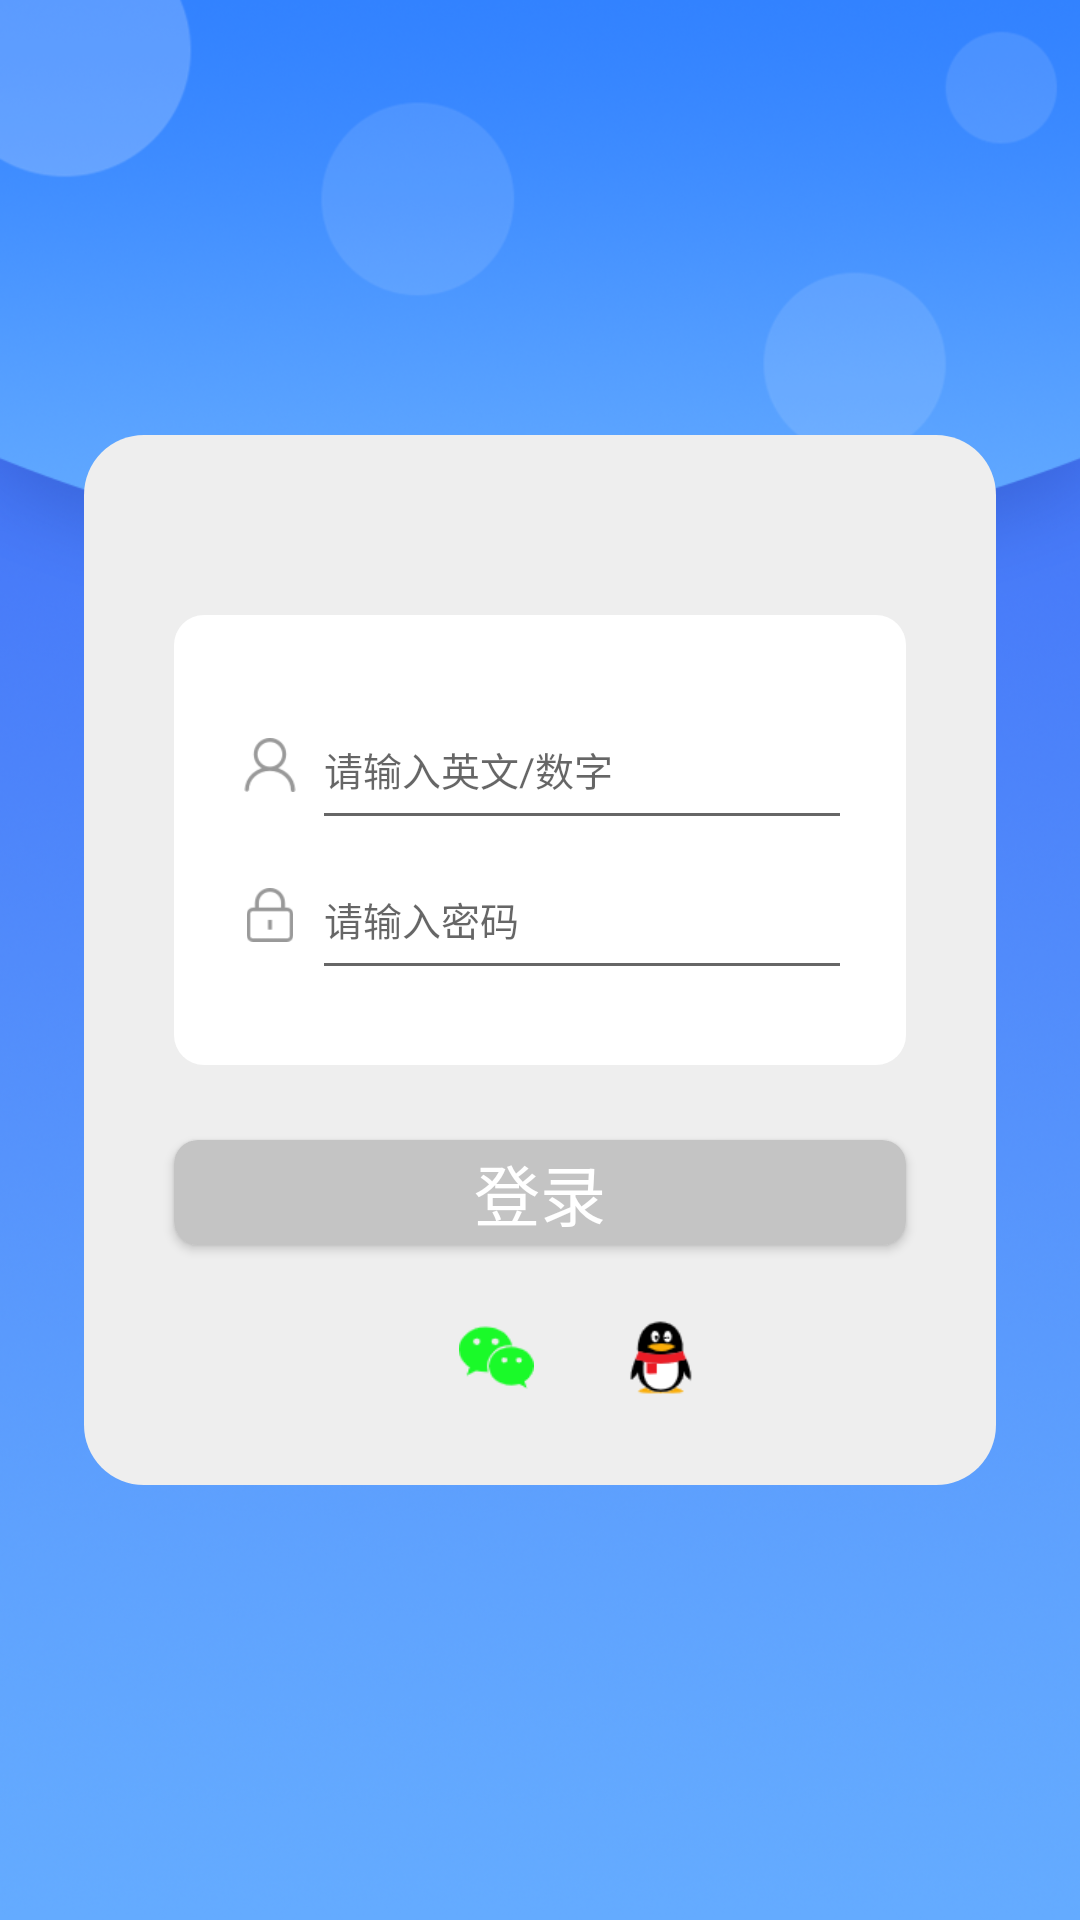

Named icons in this screenshot (1080*1920) and their centers, (x,y):
password: (270,915)
user: (270,765)
